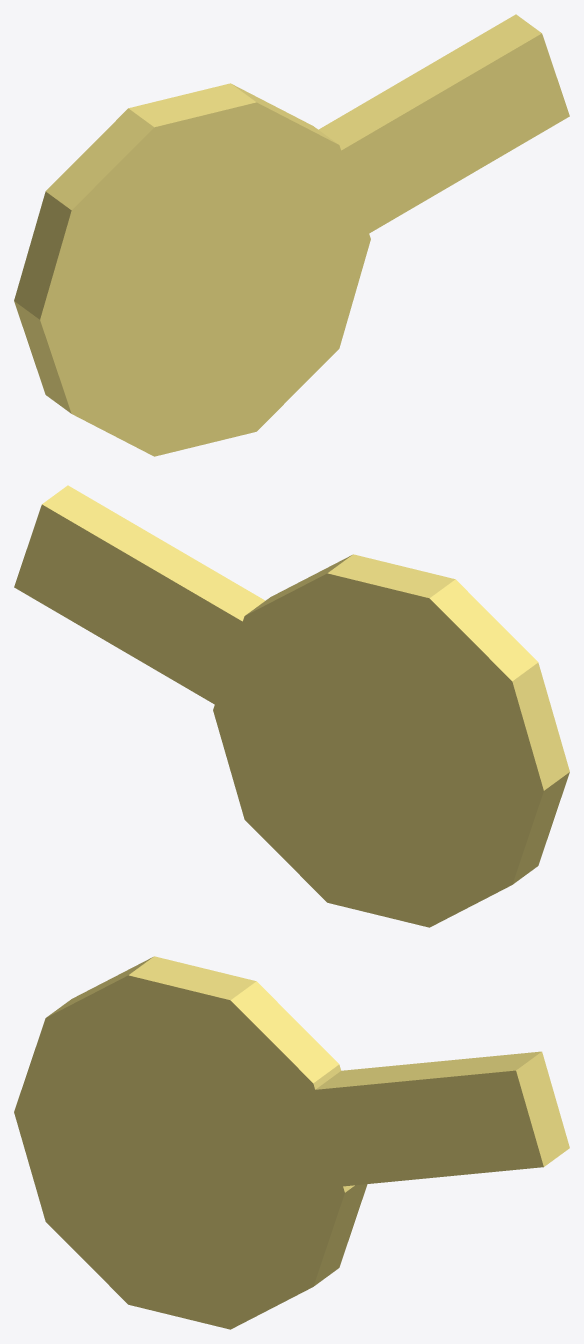
Rendered from pickup_wanted_star.glb.
The picture shows the model from 3 angles, top to bottom: view 1: azimuth 30°, elevation 25°; view 2: azimuth 150°, elevation 25°; view 3: azimuth 330°, elevation 25°; orthographic projection.
Visible parts, largest first — view 1: star_center, star_ray; view 2: star_center, star_ray; view 3: star_center, star_ray.
Boxes of the visible parts, x1,y1,x2,y2 form: star_center: (14,83,370,456); star_ray: (263,14,569,233); star_center: (213,554,569,927); star_ray: (14,485,265,704); star_center: (14,956,367,1329); star_ray: (216,1051,569,1195).
Size of the model in its own units: 0.7046 by 0.4185 by 0.06.
